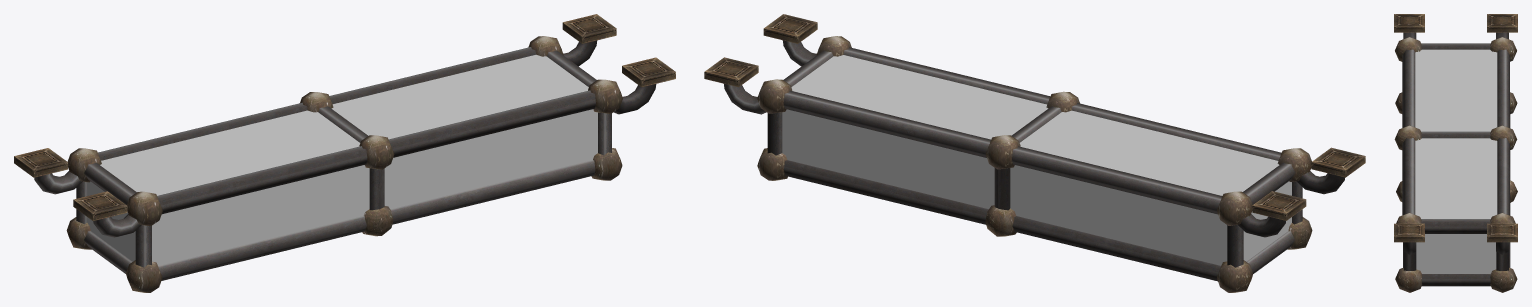
Rendered from catwalk_factory_05m.DAE.
The picture shows the model from 3 angles, left to right: view 1: azimuth 30°, elevation 25°; view 2: azimuth 150°, elevation 25°; view 3: azimuth 270°, elevation 25°; orthographic projection. The views are drawn at different scales.
Parts seen in each view (by area): view 1: Plane010, Object132; view 2: Plane010, Object132; view 3: Plane010, Object132.
Part boxes in pixels (x1=…): Plane010: x1=87, y1=54, x2=597, y2=265; Object132: x1=14, y1=14, x2=675, y2=292; Plane010: x1=782, y1=55, x2=1291, y2=265; Object132: x1=704, y1=14, x2=1365, y2=292; Plane010: x1=1415, y1=49, x2=1497, y2=273; Object132: x1=1394, y1=14, x2=1517, y2=292.
Bounding box in the file's own units: 2.12 × 0.3534 × 0.4997.
